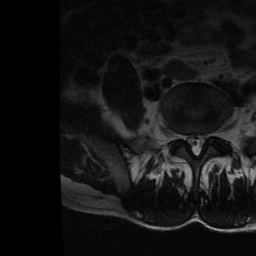CCS_normal: (193, 126, 200, 160)
LFS_severe_stenosis: (207, 125, 215, 145)
LLS_stenosis: (200, 129, 207, 150)
RFS_stenosis: (179, 127, 186, 146)
RLS_stenosis: (187, 129, 193, 150)
